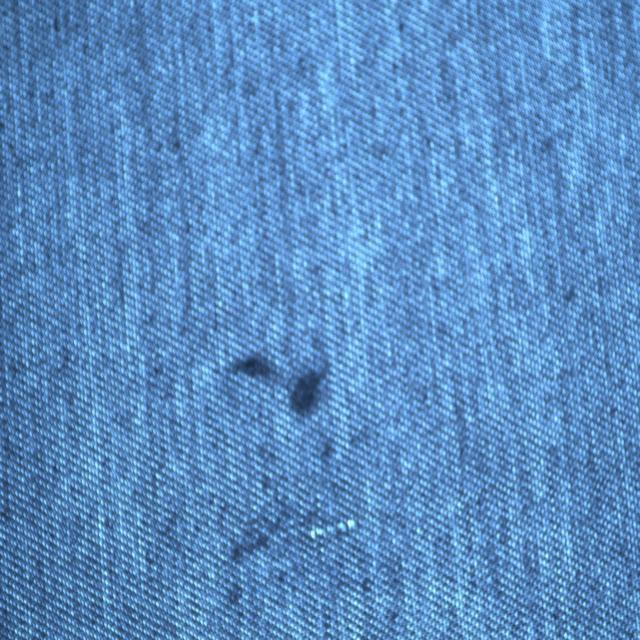pulled_or_thick_thread: (305, 518, 369, 546)
